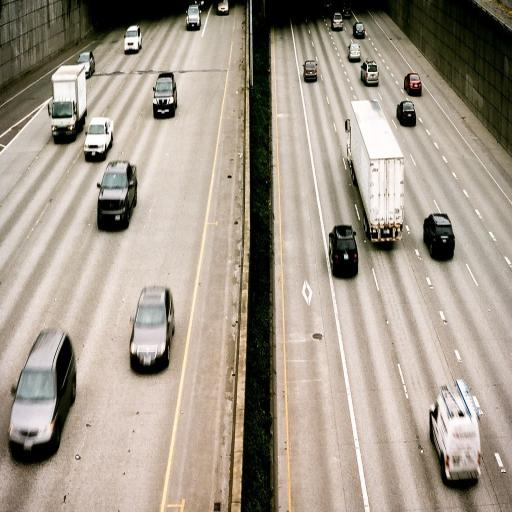Car: (9, 326, 77, 458), (127, 278, 177, 379), (96, 158, 138, 236), (420, 208, 459, 266), (328, 217, 360, 281), (150, 70, 179, 122), (84, 114, 113, 158), (122, 18, 143, 63), (402, 69, 428, 102), (184, 0, 204, 38), (396, 98, 418, 131), (359, 57, 380, 89), (77, 47, 98, 79), (301, 54, 321, 85), (346, 37, 362, 65), (330, 9, 345, 34), (351, 21, 368, 43), (213, 2, 234, 16)
Truck: (343, 85, 405, 246), (47, 56, 86, 140)
Van: (423, 370, 491, 494)
